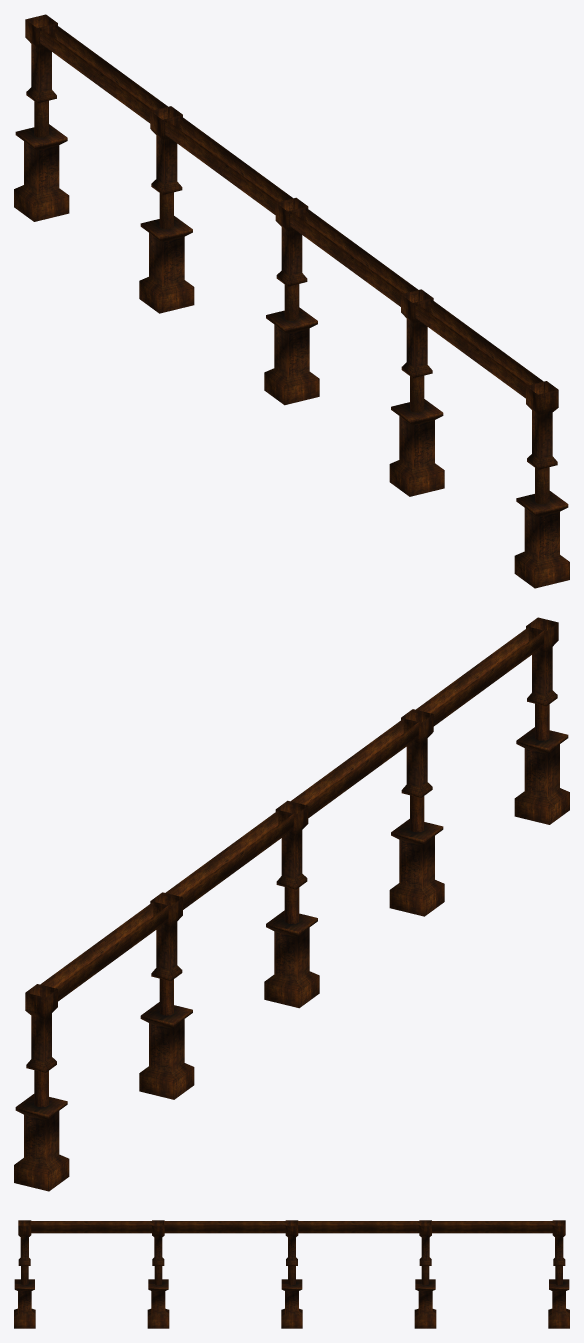
Rendered from balcony_posts.DAE.
3 renders of one model, top to bottom at view 1: azimuth 30°, elevation 25°; view 2: azimuth 150°, elevation 25°; view 3: azimuth 270°, elevation 25°, orthographic. The views are drawn at different scales.
Visible parts, largest first — view 1: Object002; view 2: Object002; view 3: Object002.
Boxes of the visible parts, x1,y1,x2,y2 form: Object002: (14, 14, 569, 588); Object002: (14, 617, 569, 1191); Object002: (14, 1220, 569, 1328).
Bounding box in the file's own units: 0.7281 × 18.73 × 3.75.
